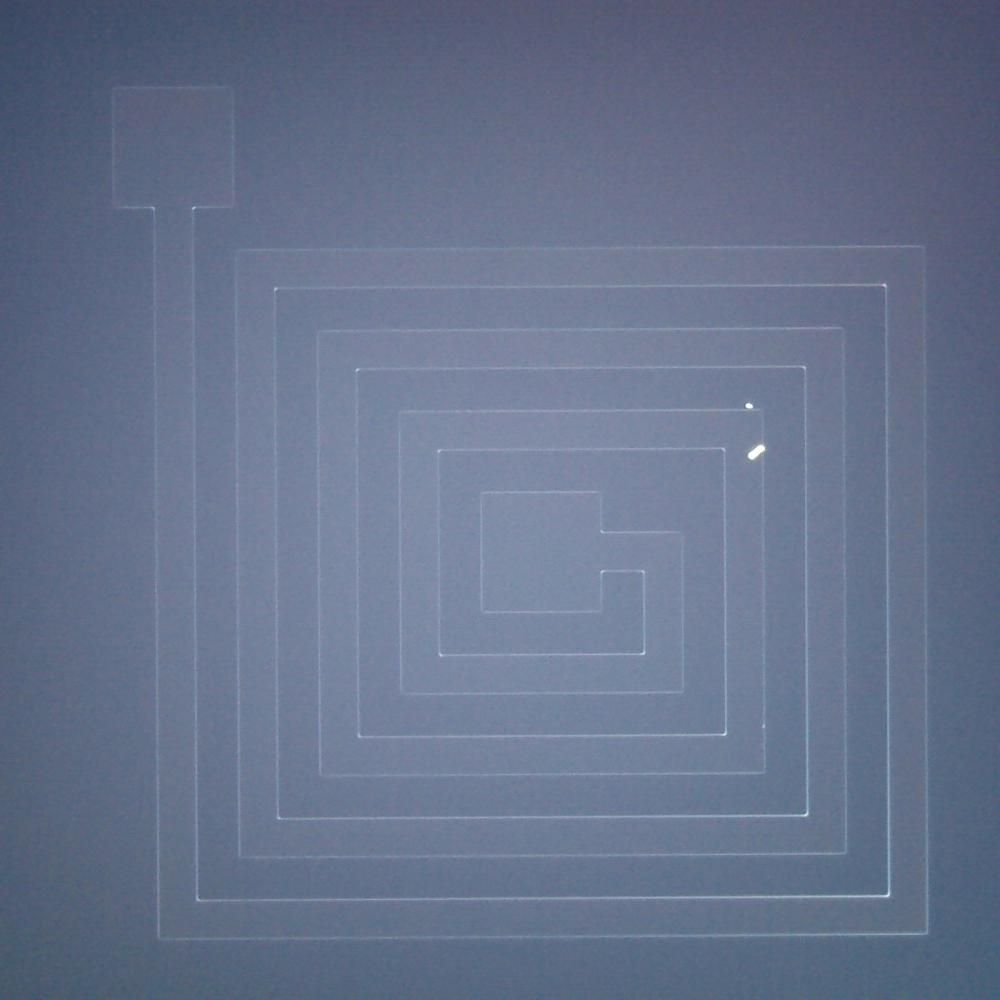dot: (749, 445, 761, 457), (746, 402, 752, 409)
